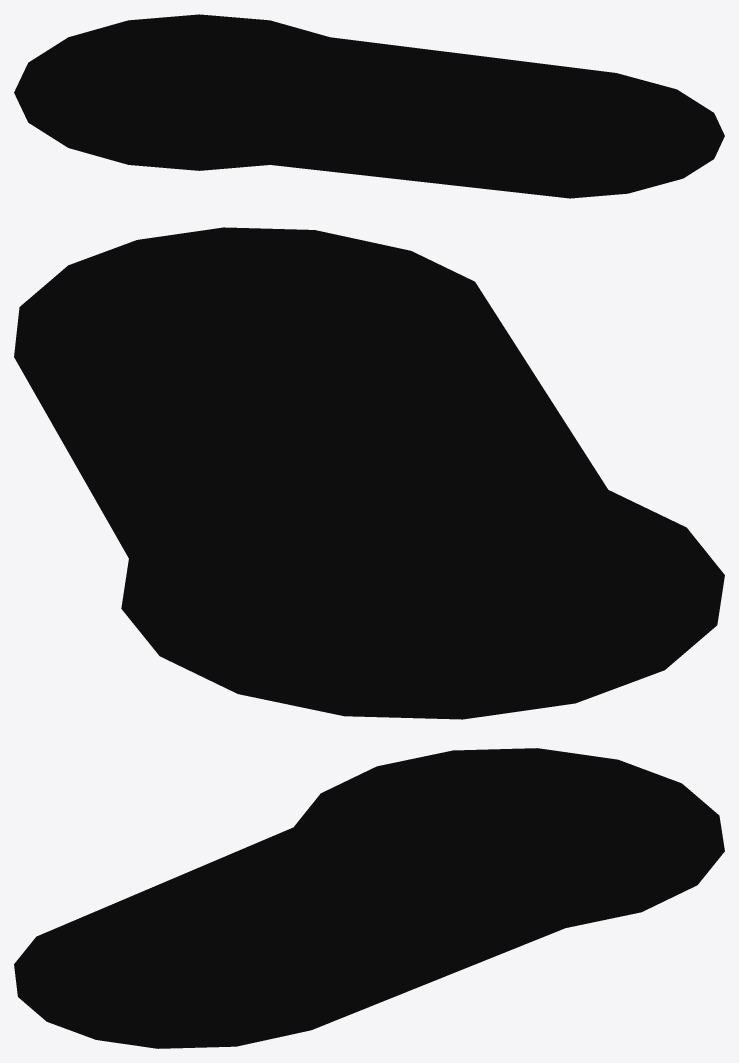
The picture shows the model from 3 angles, top to bottom: view 1: azimuth 30°, elevation 25°; view 2: azimuth 150°, elevation 25°; view 3: azimuth 270°, elevation 25°; orthographic projection. The views are drawn at different scales.
Parts seen in each view (by area): view 1: Joint_0_Object_0; view 2: Joint_0_Object_0; view 3: Joint_0_Object_0.
Boxes of the visible parts, x1=… form: Joint_0_Object_0: x1=14, y1=14, x2=724, y2=198; Joint_0_Object_0: x1=14, y1=227, x2=724, y2=719; Joint_0_Object_0: x1=14, y1=748, x2=724, y2=1048.
Size of the model in its own units: 488 by 0 by 487.
1 material, 1 textured.
